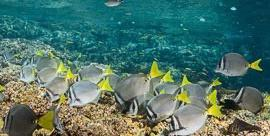Acanthuridae -Surgeonfishes-: (167, 100, 222, 136), (213, 48, 269, 80), (60, 76, 112, 109), (0, 101, 47, 136), (146, 84, 187, 124), (41, 72, 85, 96)
